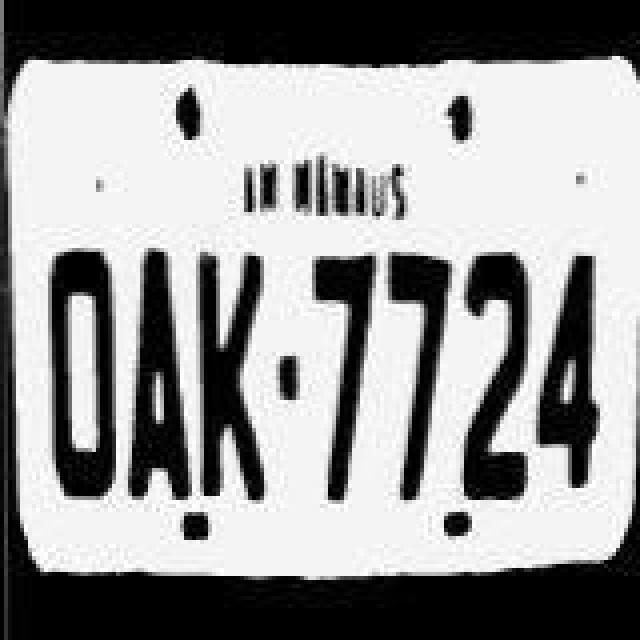2: (456, 236, 532, 508)
4: (530, 232, 610, 504)
7: (302, 244, 382, 508), (384, 234, 460, 510)
A: (122, 238, 194, 506)
K: (192, 230, 268, 506)
O: (32, 240, 116, 504)
